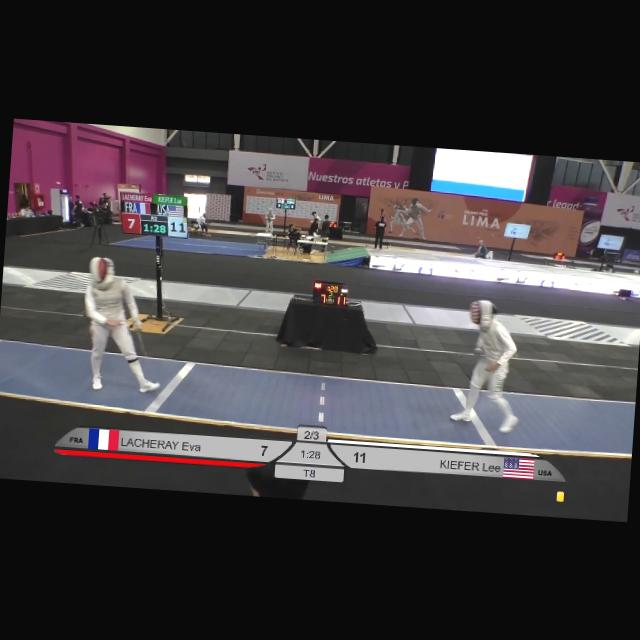blade: (130, 324, 154, 371), (469, 344, 486, 401)
